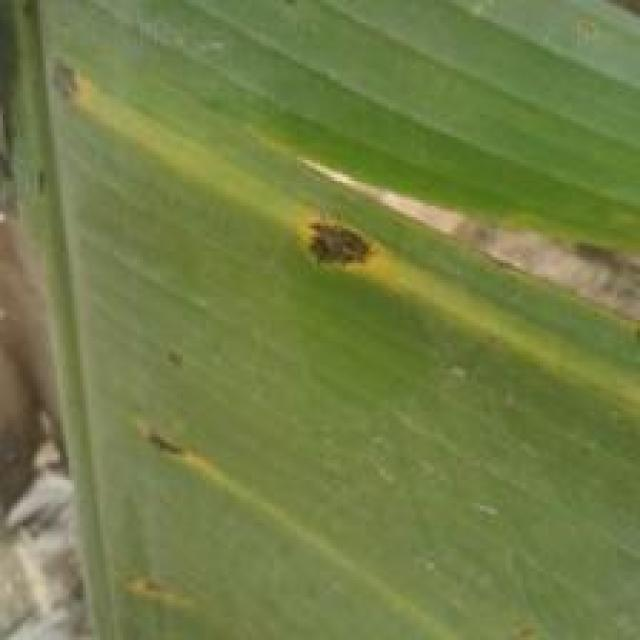Downey_mildrew: (234, 160, 640, 417), (44, 41, 254, 221), (123, 392, 260, 544), (106, 549, 244, 630)
